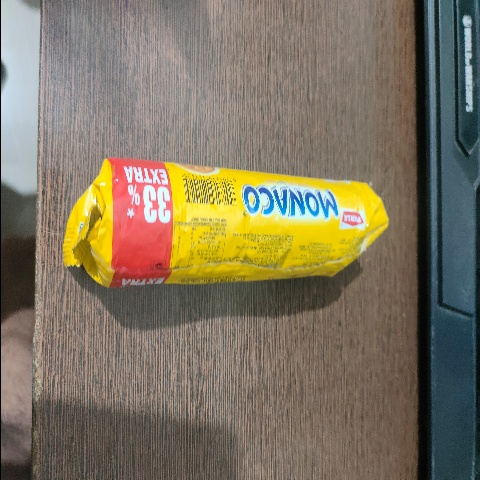monaco: (46, 122, 414, 307)
